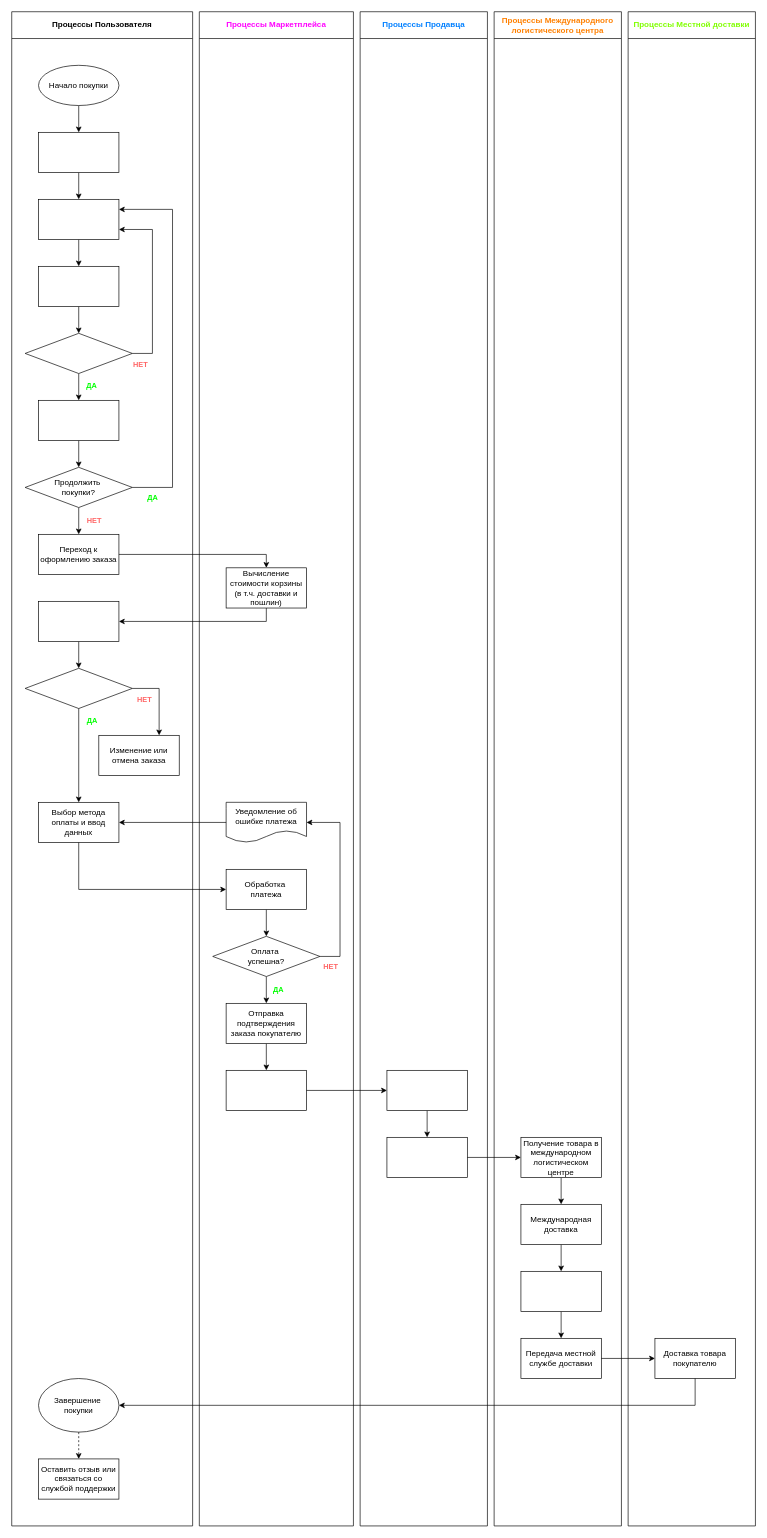
The diagram is 767 pixels wide and 1538 high, and some of its shapes have lost their labels. The shapes that lost their labels are listed below. From the top down, each one's centre as x and y in pixels, then its label:
(x=78, y=152): Посещение платформы маркетплейса
(x=78, y=219): Поиск товаров
(x=78, y=286): Просмотр описания товара
(x=78, y=353): Добавить товар в корзину?
(x=78, y=420): Добавление товара в корзину
(x=78, y=621): Просмотр и подтверждение заказа
(x=78, y=688): Подтвердить заказ?
(x=266, y=1090): Передача заказа продавцу
(x=426, y=1090): Обработка заказа
(x=426, y=1157): Отправка заказа в международный логистический центр
(x=560, y=1291): Таможенное оформление
